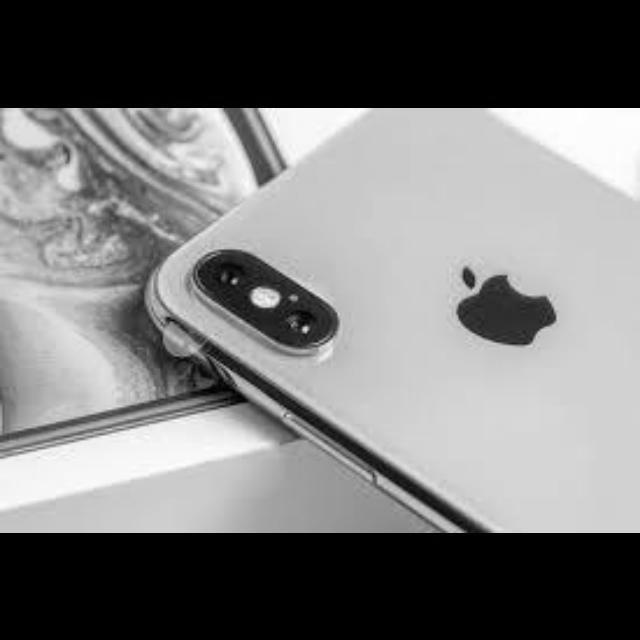fake: (92, 118, 640, 481)
